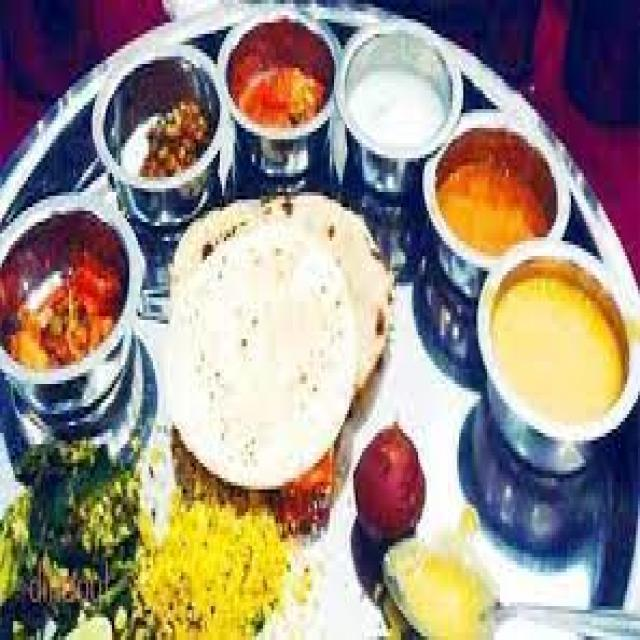curd: (344, 39, 459, 169)
papad: (158, 187, 385, 487)
pickle: (350, 427, 430, 539)
rice: (163, 173, 373, 497)
sambar-rasam: (432, 121, 558, 268)
sweet: (433, 124, 554, 267)
veg-fry: (0, 198, 144, 389), (106, 53, 228, 201), (224, 21, 334, 147)
